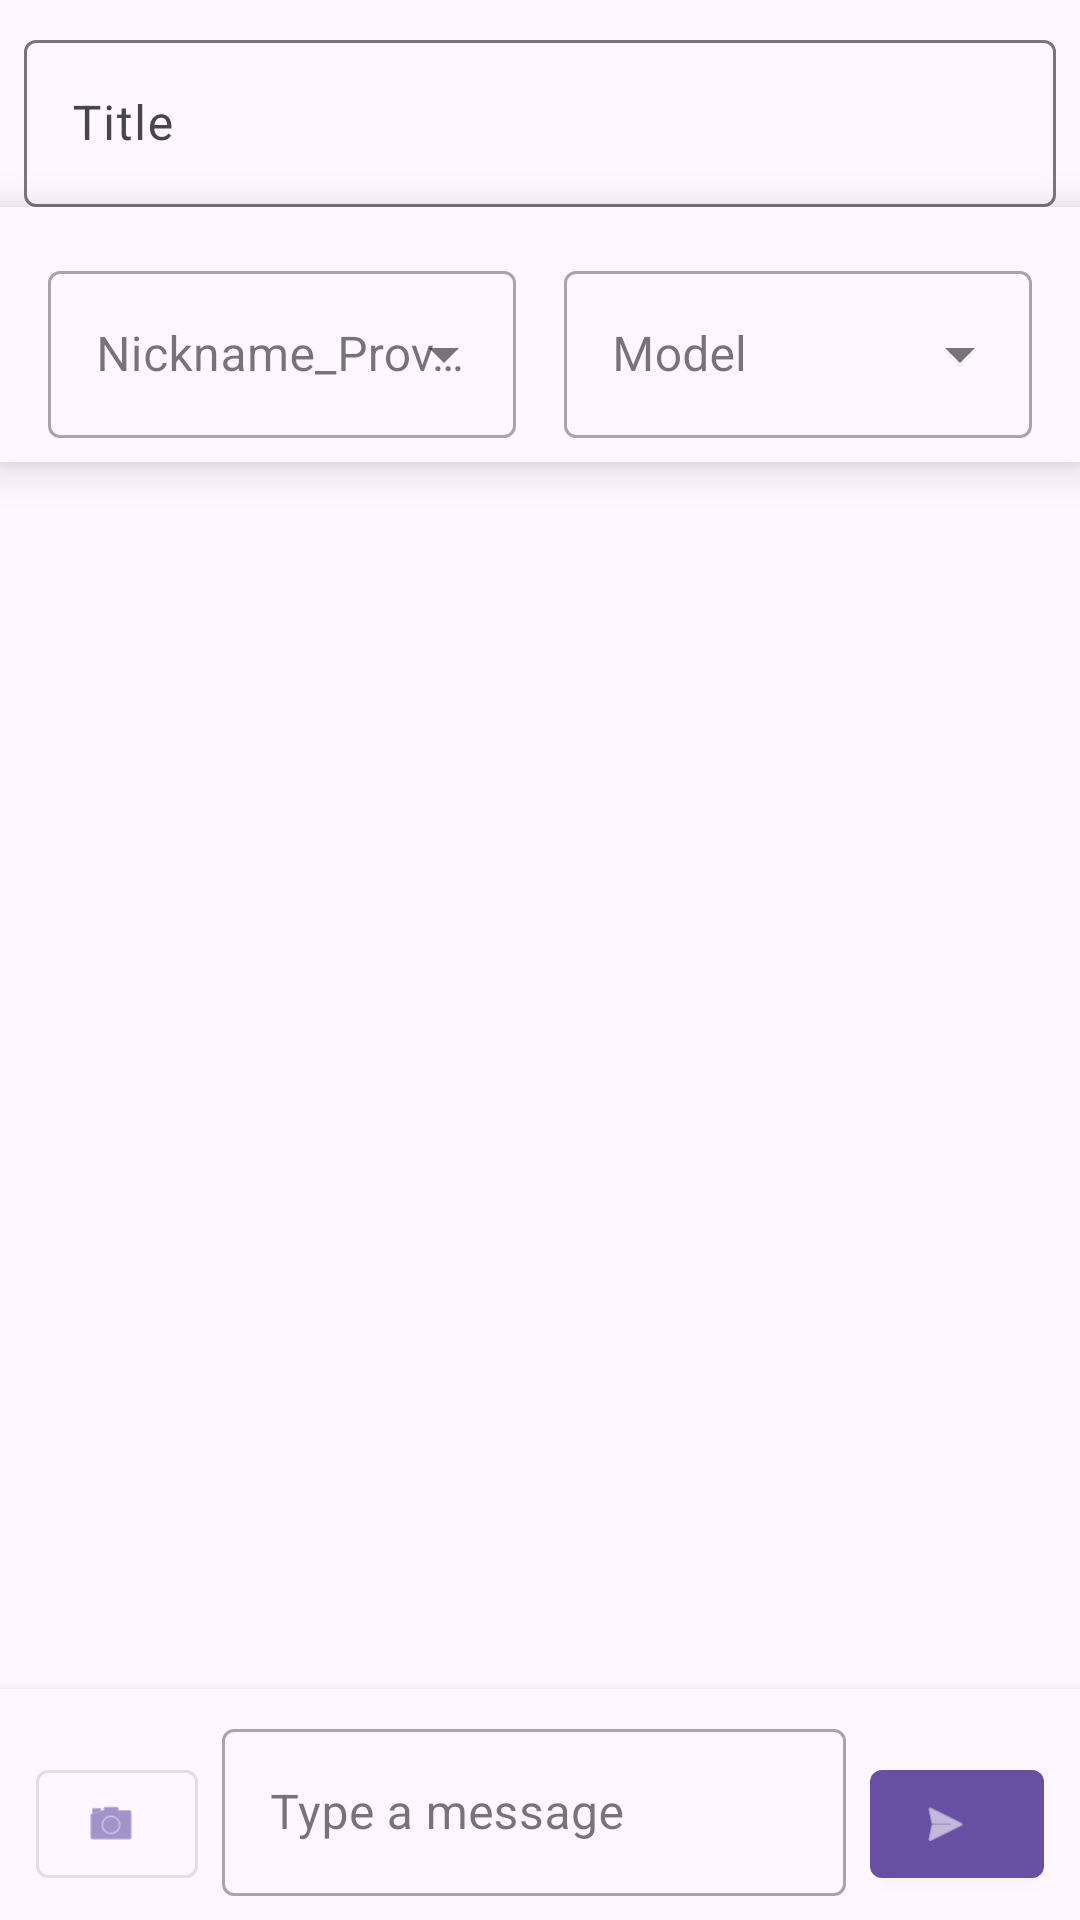

Icons on this 1080×1920 Android screen, each with its box as (x1,y1,x2,y2):
Add photo: (36,1770,198,1878)
Send message: (870,1770,1044,1878)
